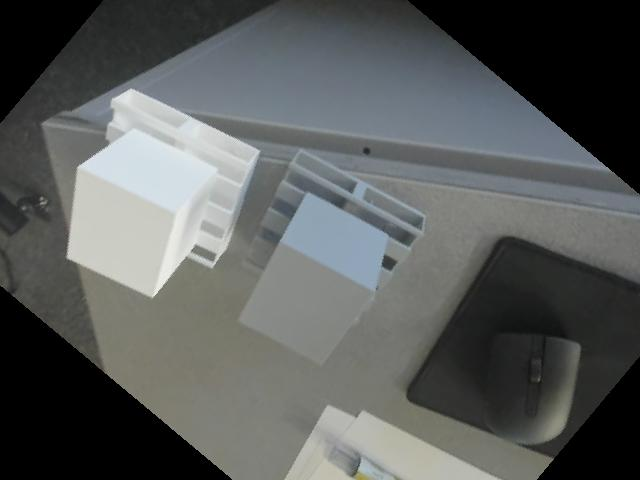grey pallet: (213, 144, 457, 380)
white pallet: (49, 82, 265, 318)
